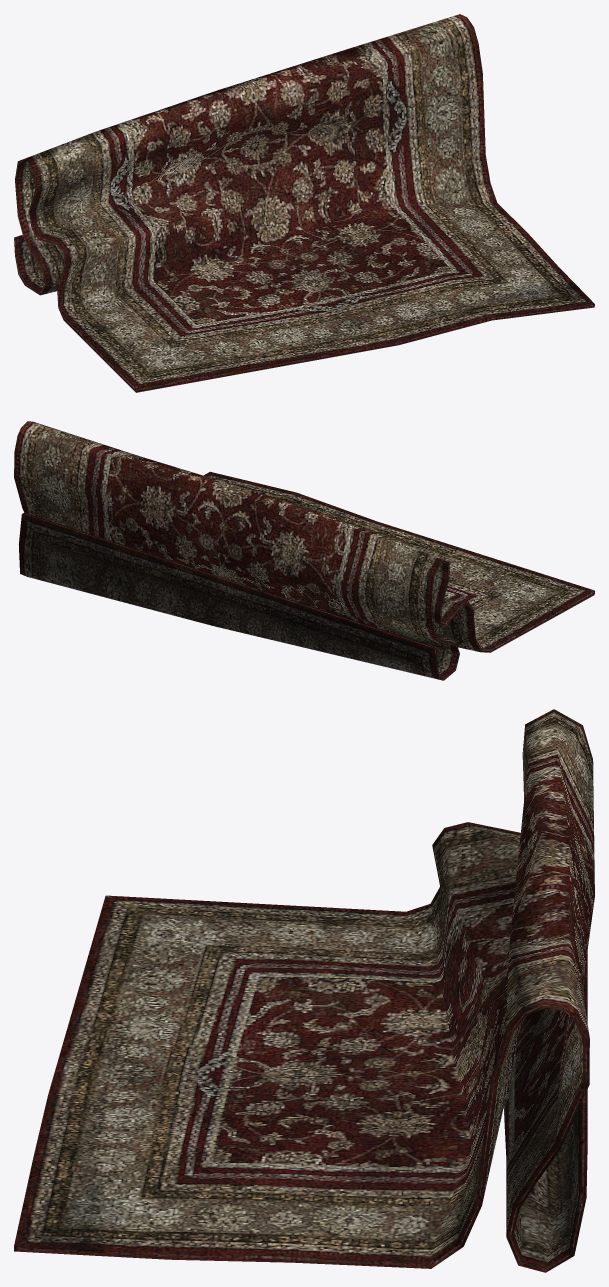
Rendered from 146_Carpet.fbx.
3 views of the same model, one above another, from view 1: azimuth 30°, elevation 25°; view 2: azimuth 150°, elevation 25°; view 3: azimuth 270°, elevation 25° (orthographic). The views are drawn at different scales.
Visible parts, largest first — view 1: LOD_1_Group_0_Sub_1__sm30_146_Carpet04A_B_Mat; view 2: LOD_1_Group_0_Sub_1__sm30_146_Carpet04A_B_Mat; view 3: LOD_1_Group_0_Sub_1__sm30_146_Carpet04A_B_Mat.
Boxes of the visible parts, x1,y1,x2,y2 form: LOD_1_Group_0_Sub_1__sm30_146_Carpet04A_B_Mat: (14,14,594,392); LOD_1_Group_0_Sub_1__sm30_146_Carpet04A_B_Mat: (14,421,594,680); LOD_1_Group_0_Sub_1__sm30_146_Carpet04A_B_Mat: (14,709,594,1272).
Bounding box in the file's own units: 0.9852 × 0.3366 × 0.6437.
